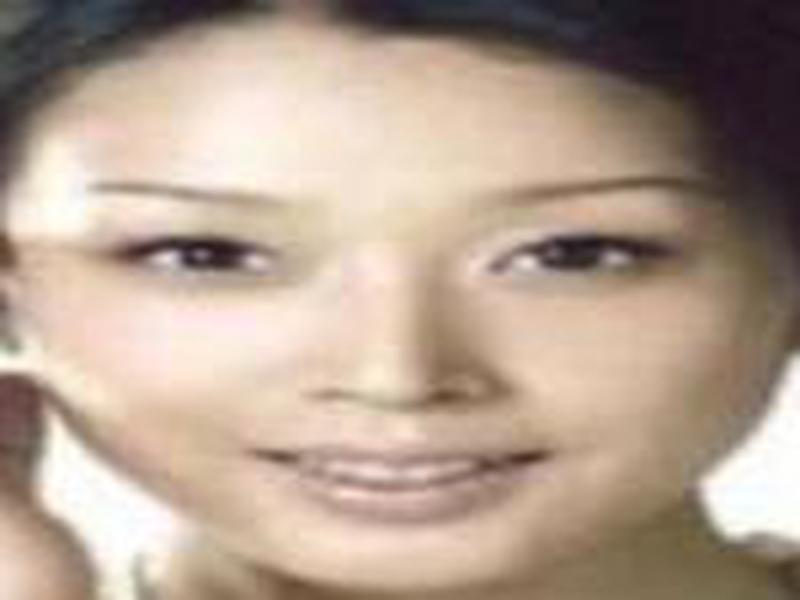without_mask: (1, 55, 789, 595)
